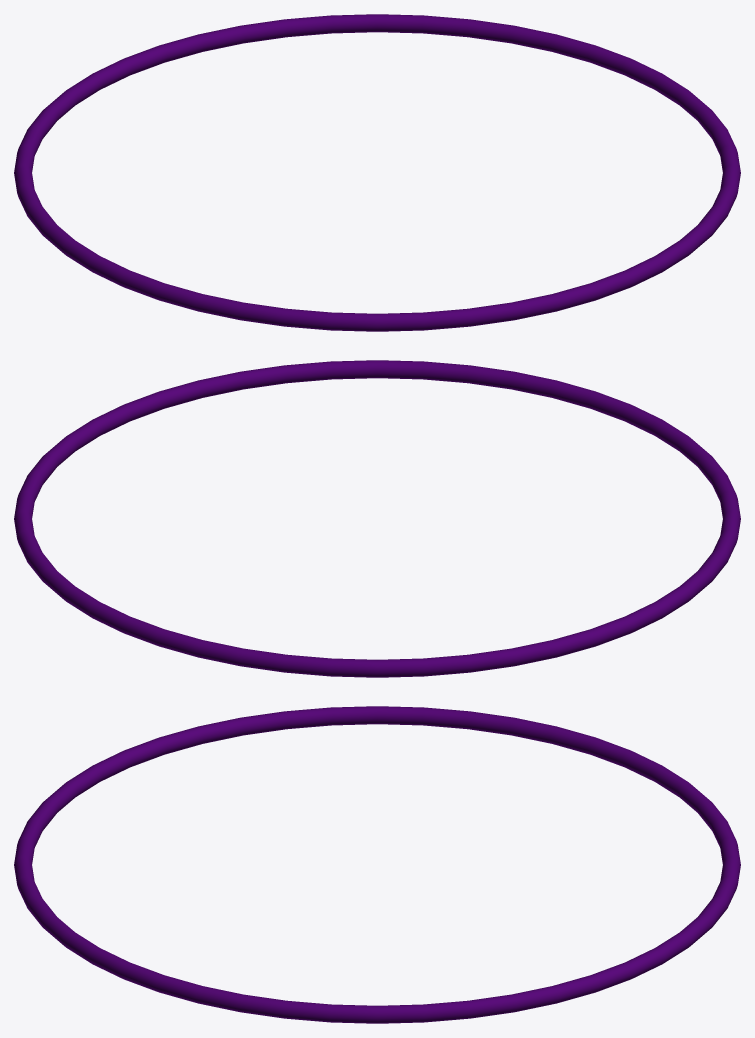
Rendered from TorusSpace.fbx.
3 views of the same model, one above another, from view 1: azimuth 30°, elevation 25°; view 2: azimuth 150°, elevation 25°; view 3: azimuth 270°, elevation 25° (orthographic).
Parts seen in each view (by area): view 1: Torus; view 2: Torus; view 3: Torus.
Part boxes in pixels (x1=…): Torus: x1=14, y1=14, x2=740, y2=331; Torus: x1=14, y1=360, x2=740, y2=677; Torus: x1=14, y1=706, x2=740, y2=1023.
Bounding box in the file's own units: 402 × 402 × 10.
